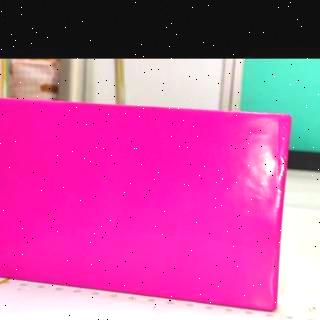xparking: (2, 99, 290, 310)
